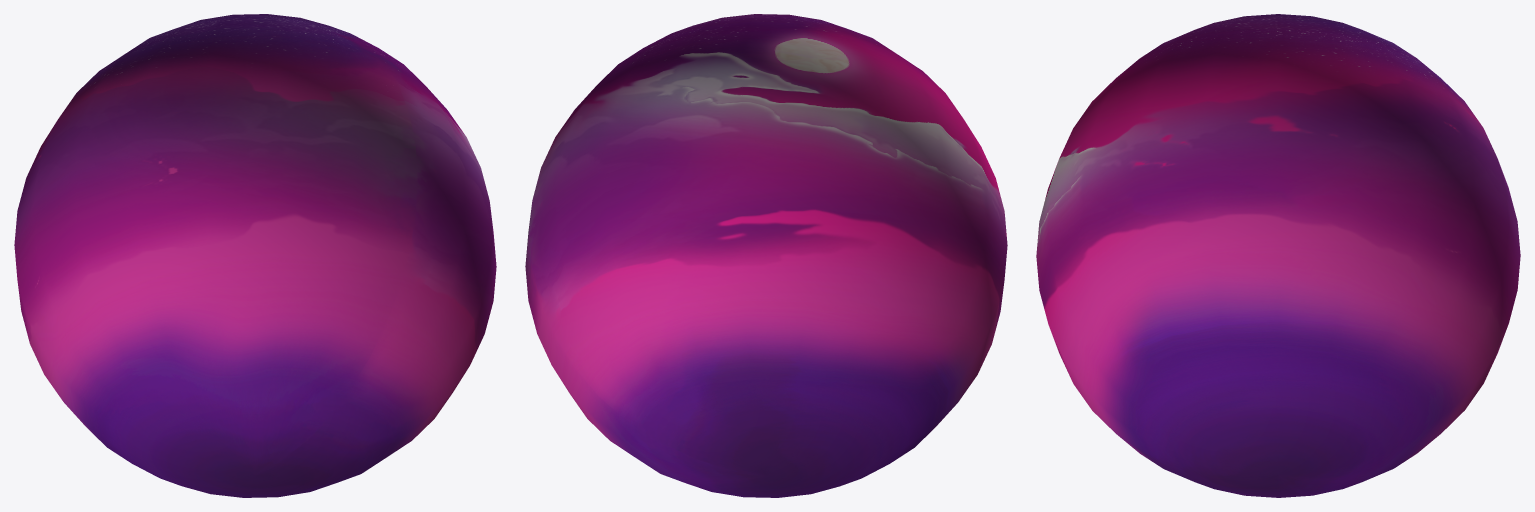
Rendered from sky.glb.
The picture shows the model from 3 angles, left to right: view 1: azimuth 30°, elevation 25°; view 2: azimuth 150°, elevation 25°; view 3: azimuth 270°, elevation 25°; orthographic projection.
Visible parts, largest first — view 1: pSphere1; view 2: pSphere1; view 3: pSphere1.
Boxes of the visible parts, x1,y1,x2,y2 form: pSphere1: (14, 14, 496, 497); pSphere1: (525, 14, 1007, 497); pSphere1: (1036, 14, 1520, 497).
Size of the model in its own units: 2.54 by 2.54 by 2.54.
1 material, 1 textured.
